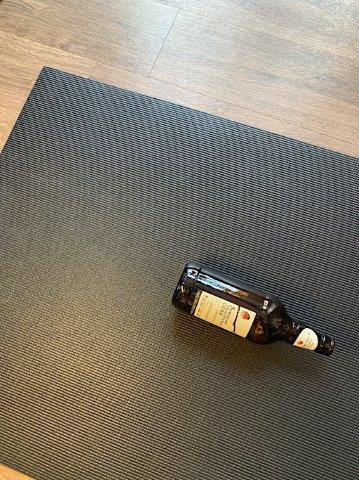botolkaca: (172, 262, 335, 356)
